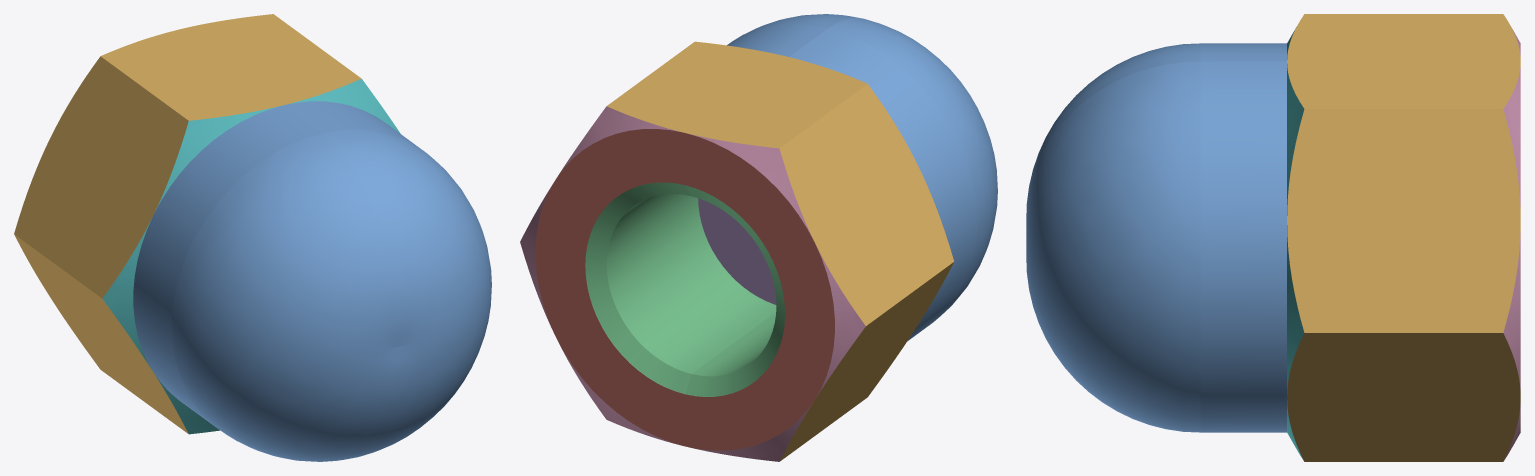
3 renders of one model, left to right at view 1: azimuth 30°, elevation 25°; view 2: azimuth 150°, elevation 25°; view 3: azimuth 270°, elevation 25°, orthographic. The views are drawn at different scales.
Parts seen in each view (by area): view 1: M12 DOME NUT; view 2: M12 DOME NUT; view 3: M12 DOME NUT.
Boxes of the visible parts, x1,y1,x2,y2 form: M12 DOME NUT: (14,14,491,461); M12 DOME NUT: (520,14,997,461); M12 DOME NUT: (1026,14,1520,461).
Size of the model in its own units: 0.0208 by 0.018 by 0.0229.
